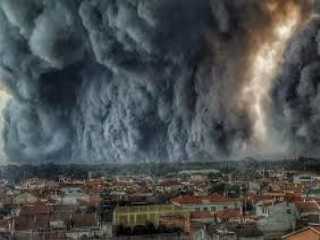smoke: (14, 8, 308, 163)
